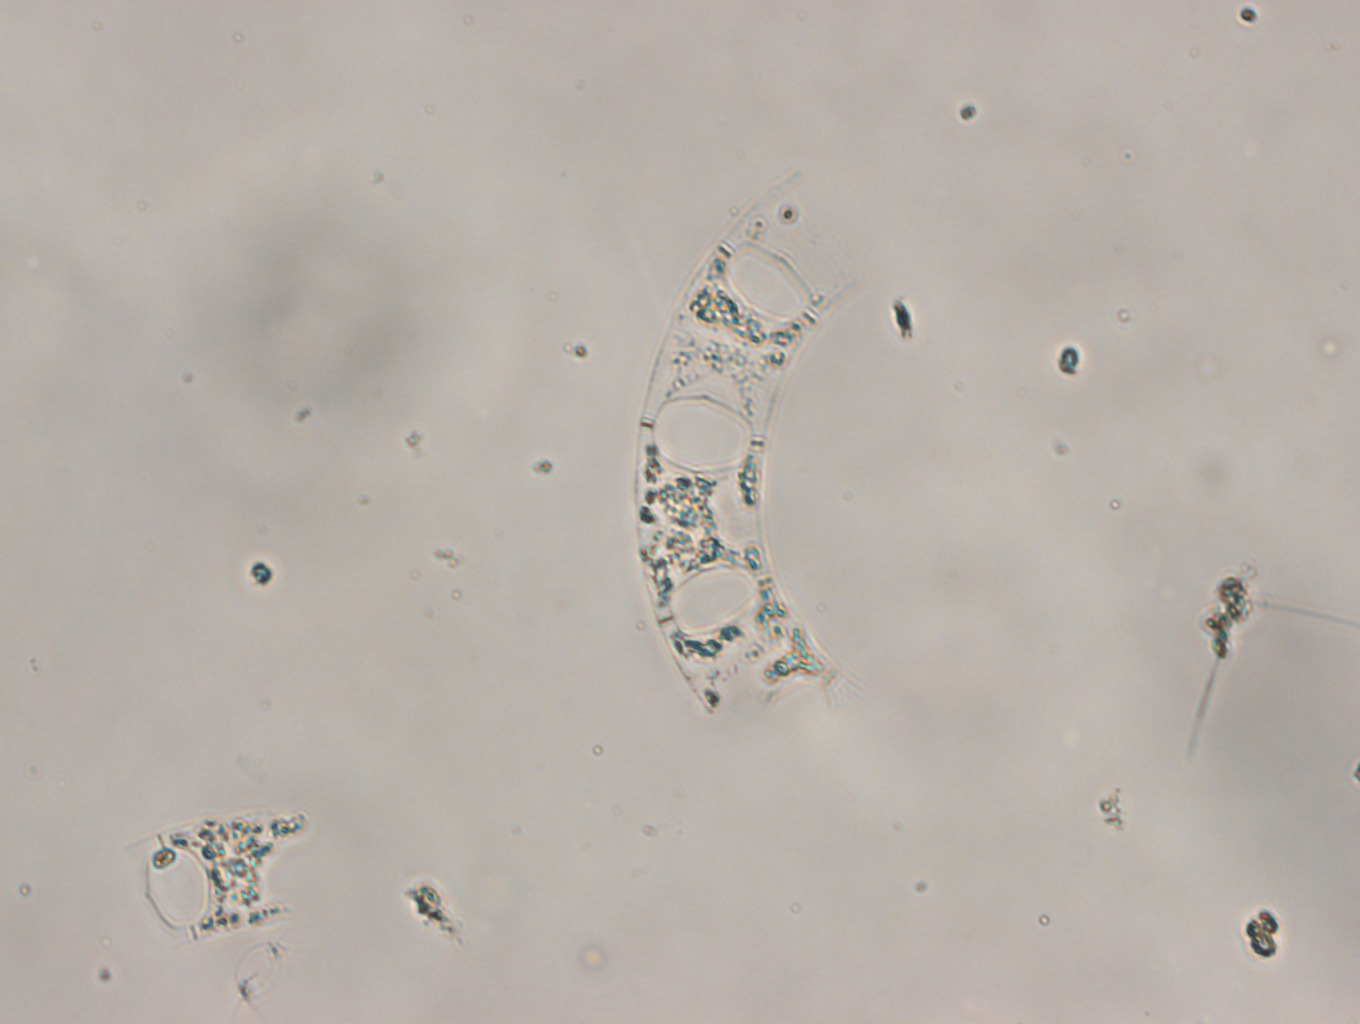eucampia: (617, 148, 893, 727)
